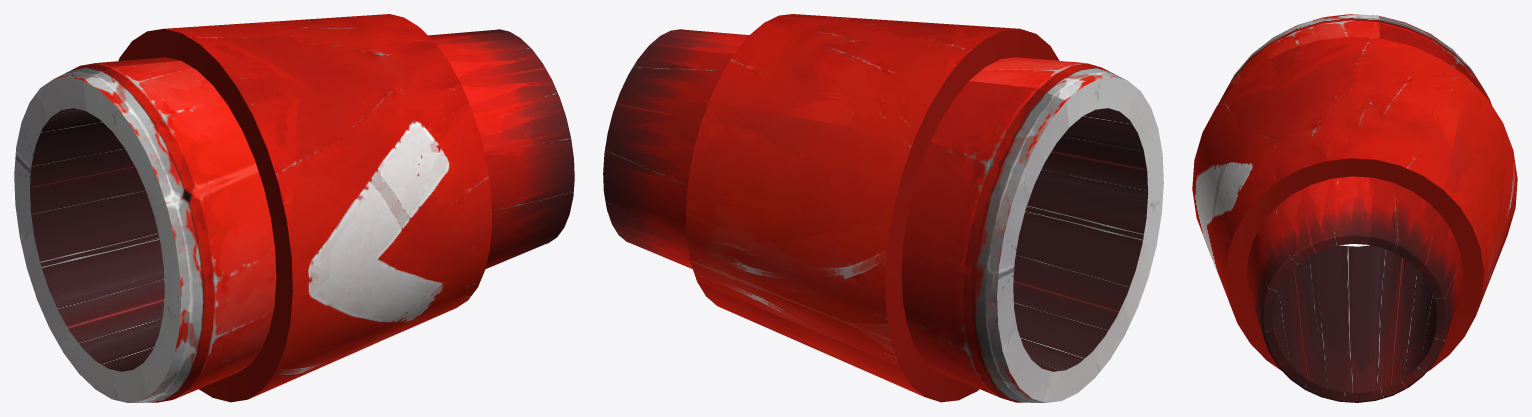
File: cannon barriel1_2 (2).fbx
3 views of the same model, side by side, from view 1: azimuth 30°, elevation 25°; view 2: azimuth 150°, elevation 25°; view 3: azimuth 270°, elevation 25° (orthographic). The views are drawn at different scales.
Parts seen in each view (by area): view 1: Soda Cup_Cup Material_0.002; view 2: Soda Cup_Cup Material_0.002; view 3: Soda Cup_Cup Material_0.002.
Boxes of the visible parts, bbox=[...] form: Soda Cup_Cup Material_0.002: bbox=[14, 14, 574, 402]; Soda Cup_Cup Material_0.002: bbox=[603, 14, 1163, 402]; Soda Cup_Cup Material_0.002: bbox=[1192, 14, 1517, 402].
Bounding box in the file's own units: 1224 × 957 × 957.
Materials: 1 (1 with a texture image).
